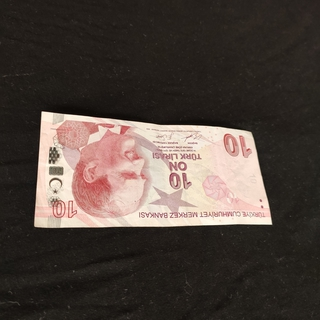10TLFront: (32, 109, 273, 229)
